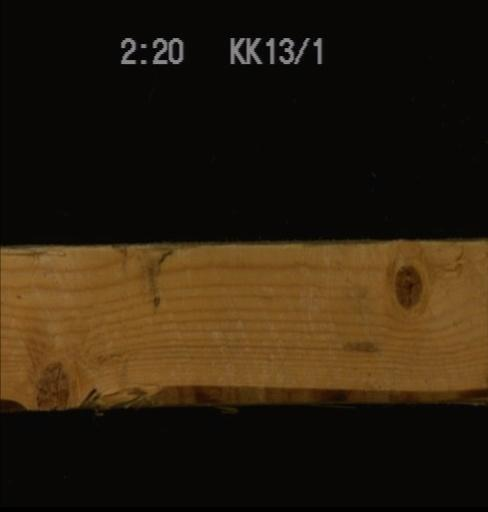sound_knot: (390, 259, 422, 310)
wave: (0, 363, 485, 412)
